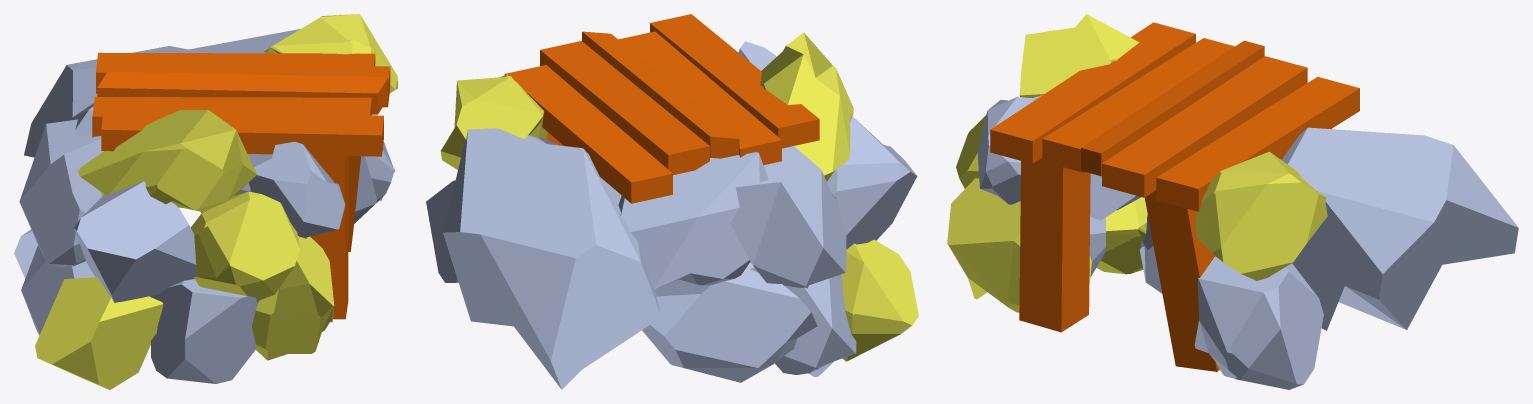
File: Goldmine.fbx
3 renders of one model, left to right at view 1: azimuth 30°, elevation 25°; view 2: azimuth 150°, elevation 25°; view 3: azimuth 270°, elevation 25°, orthographic. The views are drawn at different scales.
Visible parts, largest first — view 1: Cube.006, Cube.004, Cube.005, Cube.001, Cube, Cube.008, Cube.013, Cube.016, Cube.003, Cube.009, Cube.014, Cube.015 (+9 smaller); view 2: Cube.014, Cube.010, Cube.011, Cube.008, Cube.018, Cube.017, Cube.013, Cube.006, Cube.004, Cube.005, Cube.015, Cube.021 (+4 smaller); view 3: Cube.014, Cube.020, Cube.021, Cube.012, Cube.017, Cube.018, Cube.013, Cube.003, Cube.019, Cube.015, Cube.016, Cube.006 (+6 smaller).
Part boxes in pixels (x1,y1,x2,y2): Cube.006: (77, 109, 256, 211); Cube.004: (74, 181, 196, 302); Cube.005: (35, 277, 163, 389); Cube.001: (190, 191, 299, 301); Cube: (151, 279, 258, 383); Cube.008: (19, 119, 103, 267); Cube.013: (101, 110, 383, 156); Cube.016: (97, 71, 388, 114); Cube.003: (252, 236, 334, 360); Cube.009: (249, 141, 345, 238); Cube.014: (24, 29, 300, 212); Cube.015: (92, 96, 371, 137); Cube.014: (443, 128, 660, 389); Cube.010: (642, 261, 817, 382); Cube.011: (618, 152, 768, 289); Cube.008: (730, 146, 846, 288); Cube.018: (504, 65, 672, 203); Cube.017: (540, 41, 709, 174); Cube.013: (650, 14, 819, 148); Cube.006: (760, 32, 853, 181); Cube.004: (827, 116, 917, 249); Cube.005: (840, 239, 918, 361); Cube.015: (618, 31, 781, 165); Cube.021: (440, 75, 547, 169); Cube.014: (1281, 127, 1518, 330); Cube.020: (1194, 256, 1323, 389); Cube.021: (1195, 151, 1327, 280); Cube.012: (1019, 158, 1090, 332); Cube.017: (1102, 56, 1307, 197); Cube.018: (1156, 77, 1359, 211); Cube.013: (990, 22, 1195, 163); Cube.003: (947, 178, 1091, 312); Cube.019: (1145, 190, 1219, 371); Cube.015: (1042, 38, 1234, 172); Cube.016: (1081, 40, 1264, 176); Cube.006: (1019, 14, 1139, 97).
Size of the model in its own units: 1021 by 651 by 1136.
